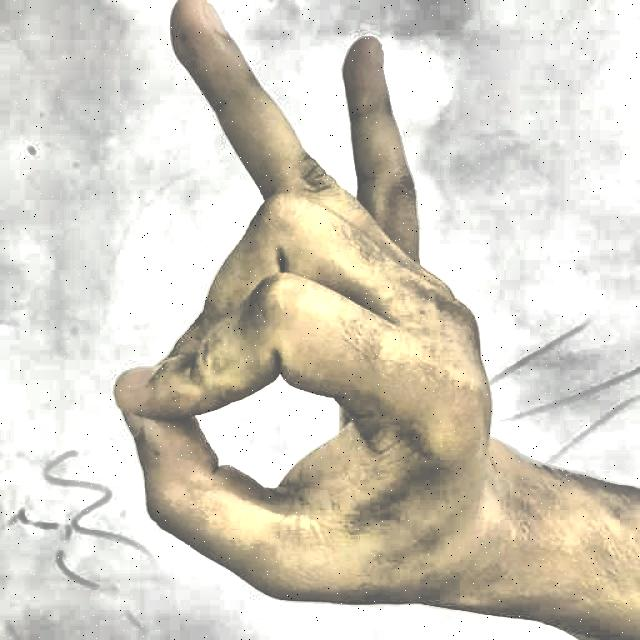Na: (56, 0, 520, 640)
